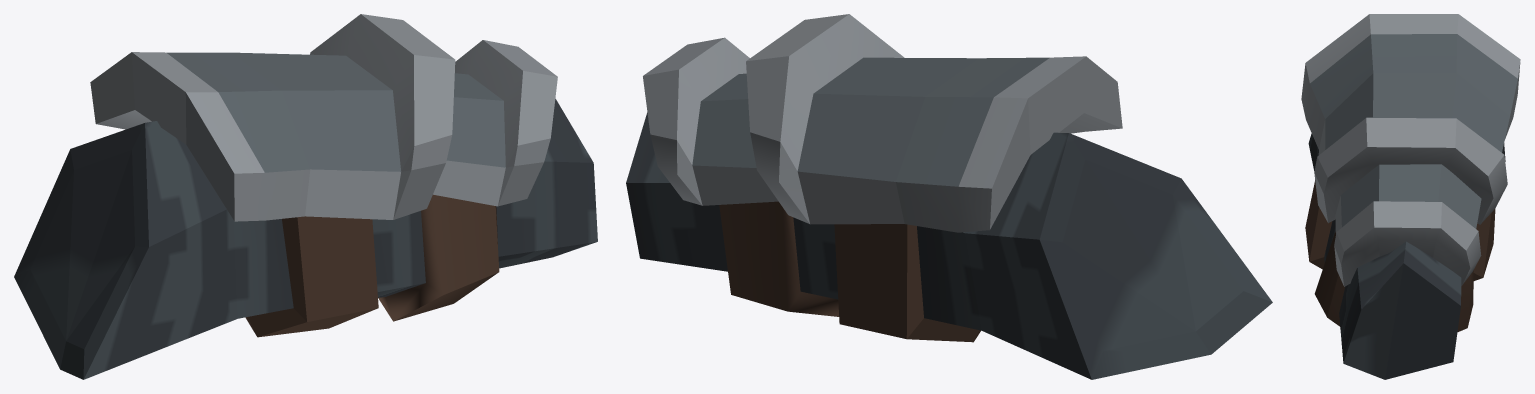
Rendered from Chr_ArmUpperLeft_Female_04_Static.fbx.
3 views of the same model, side by side, from view 1: azimuth 30°, elevation 25°; view 2: azimuth 150°, elevation 25°; view 3: azimuth 270°, elevation 25° (orthographic). The views are drawn at different scales.
Visible parts, largest first — view 1: Chr_ArmUpperLeft_Female_04_Static; view 2: Chr_ArmUpperLeft_Female_04_Static; view 3: Chr_ArmUpperLeft_Female_04_Static.
Part boxes in pixels (<box>): Chr_ArmUpperLeft_Female_04_Static: <box>14,14,597,379</box>; Chr_ArmUpperLeft_Female_04_Static: <box>626,14,1272,379</box>; Chr_ArmUpperLeft_Female_04_Static: <box>1301,14,1520,379</box>.
Bounding box in the file's own units: 0.3535 × 0.1818 × 0.1513.
